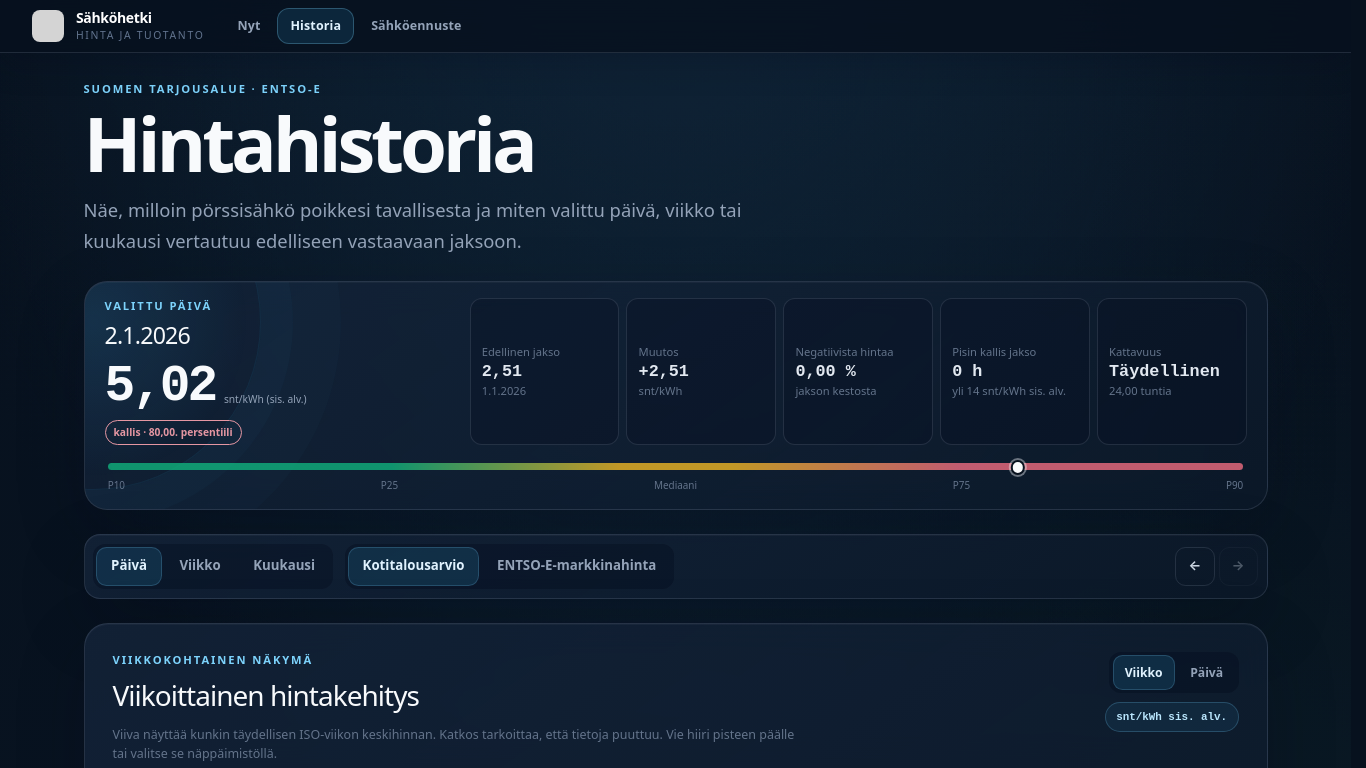
Test case: navigates to the previous period and lets a heatmap cell select a date
Click the button named "Edellinen jakso": click(1195, 566) [1175, 547, 1214, 586]
(page scrolled)
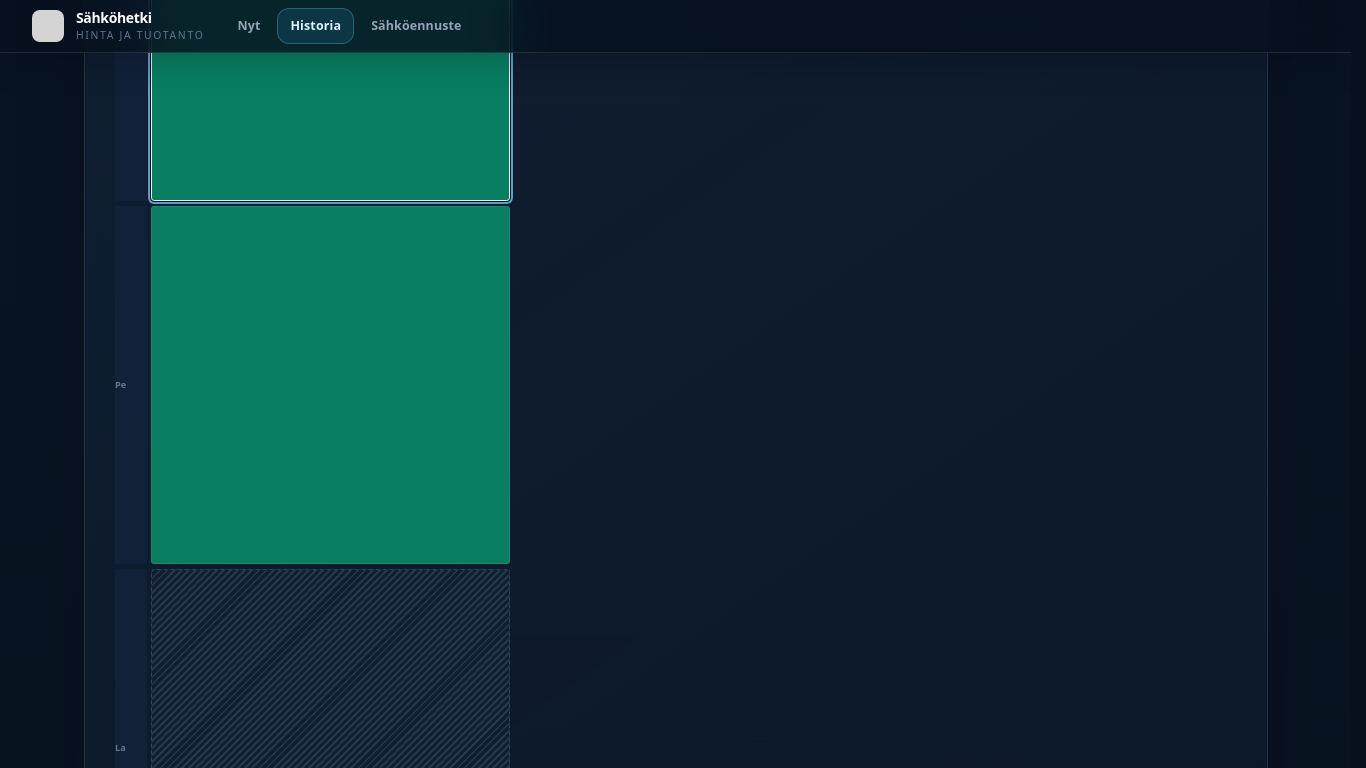
Click the button named "2.1.2026, 5,02 snt/kWh": click(330, 385) [151, 206, 510, 564]
(page scrolled)
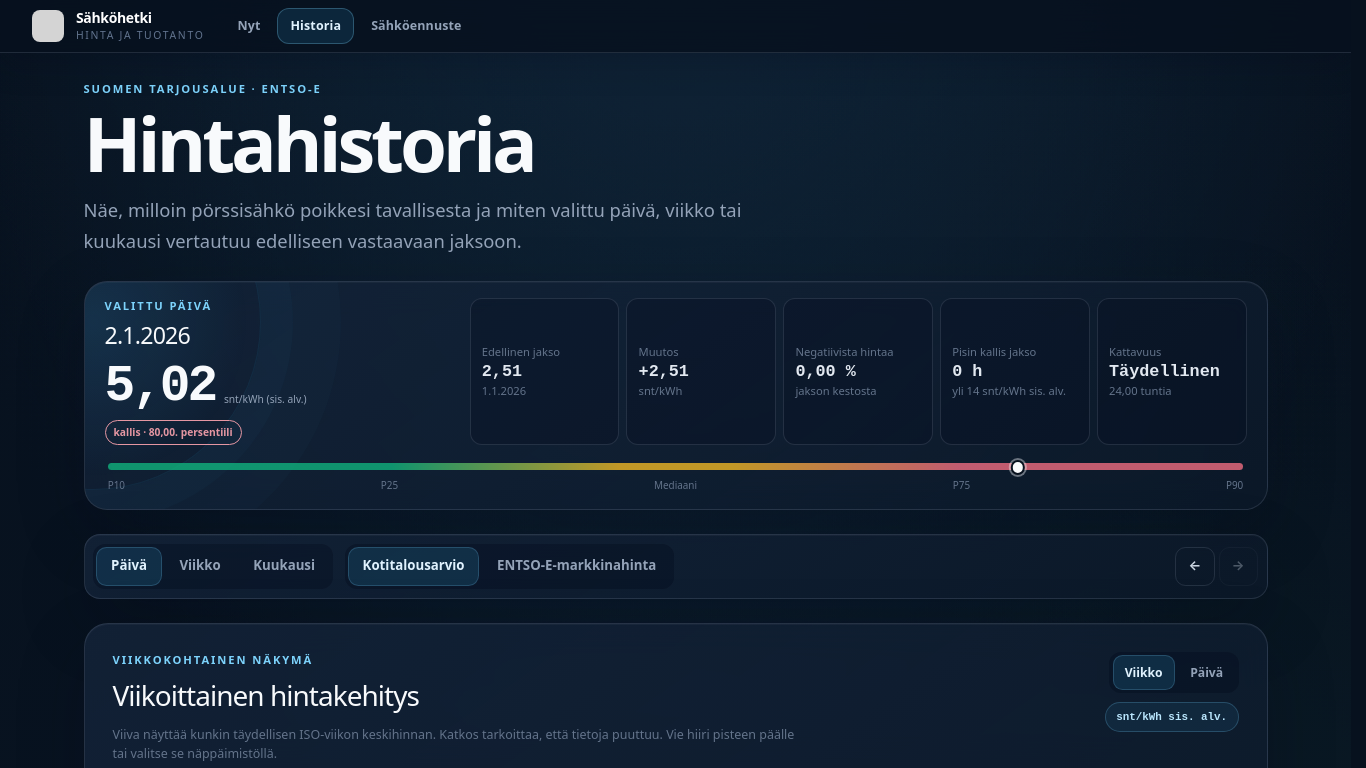
Expected: the heading "2.1.2026" is shown, [104, 319, 190, 351]
